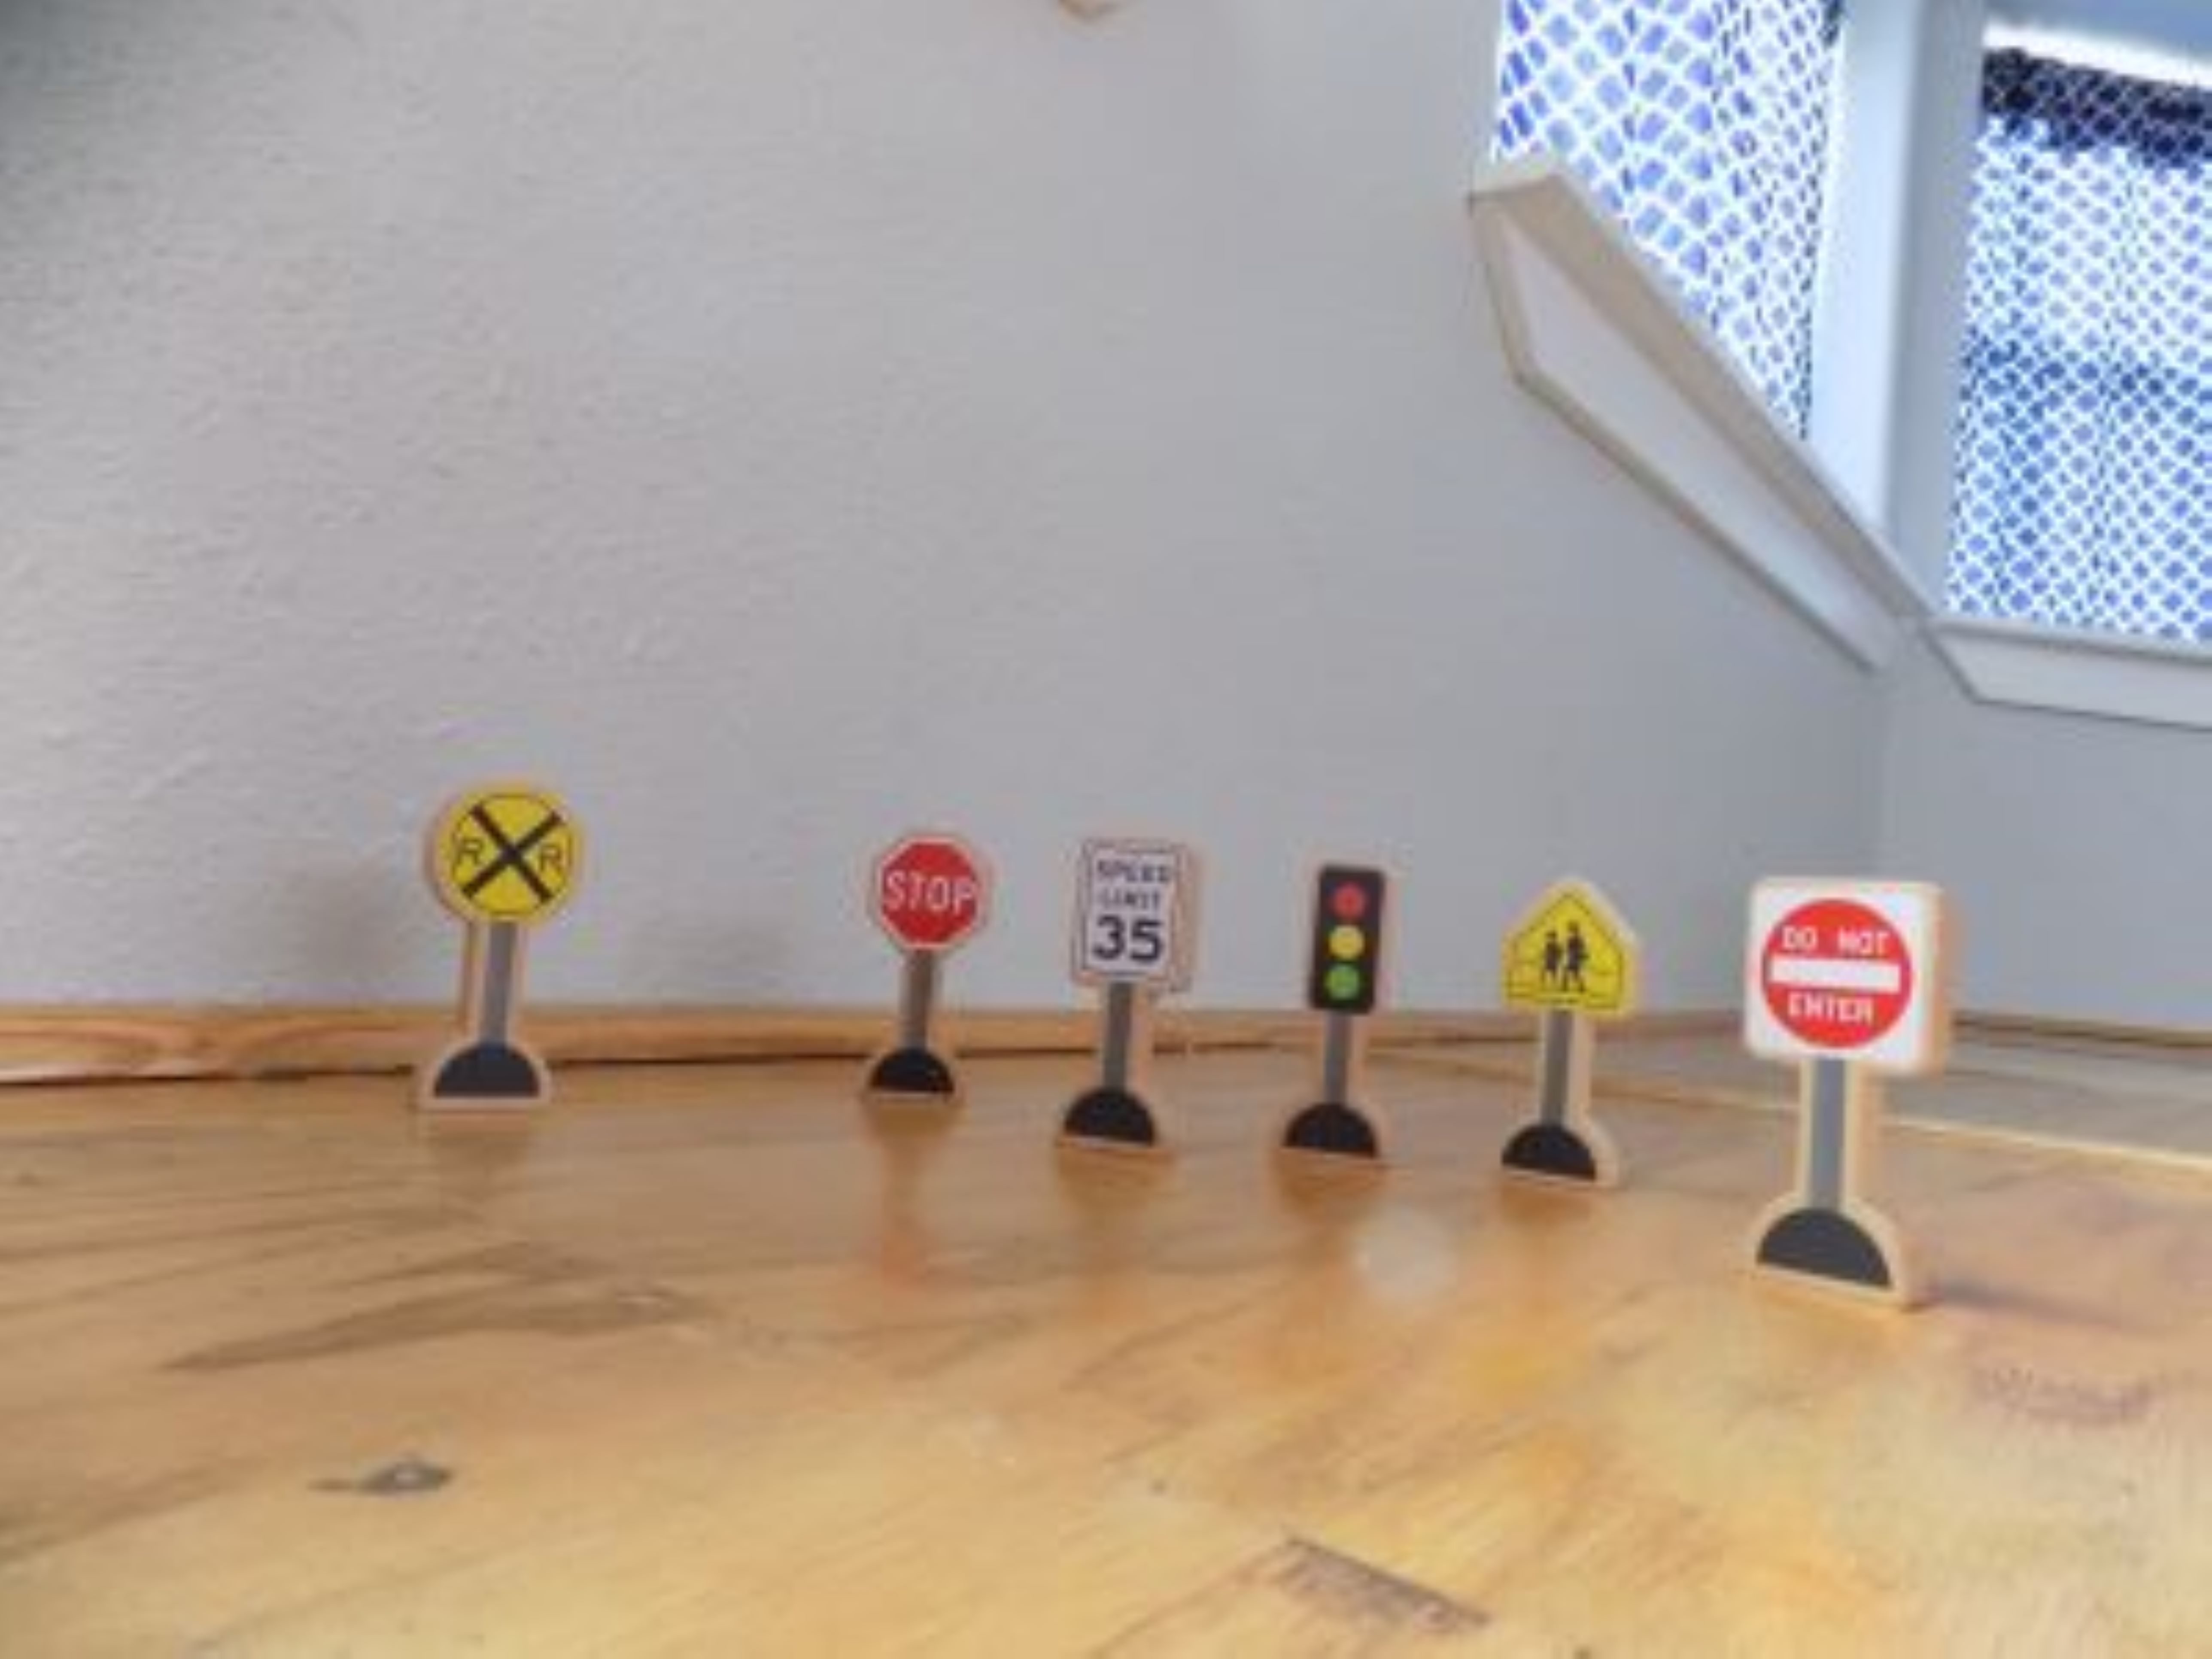Do Not Enter: (1729, 864, 1983, 1118)
Pedestrians: (1497, 869, 1653, 1044)
Rail Road Sign: (428, 769, 588, 955)
Red Traffic Light: (1296, 835, 1404, 1053)
Speed Limit 35: (1069, 821, 1212, 994)
Stop Sign: (872, 826, 1002, 986)
